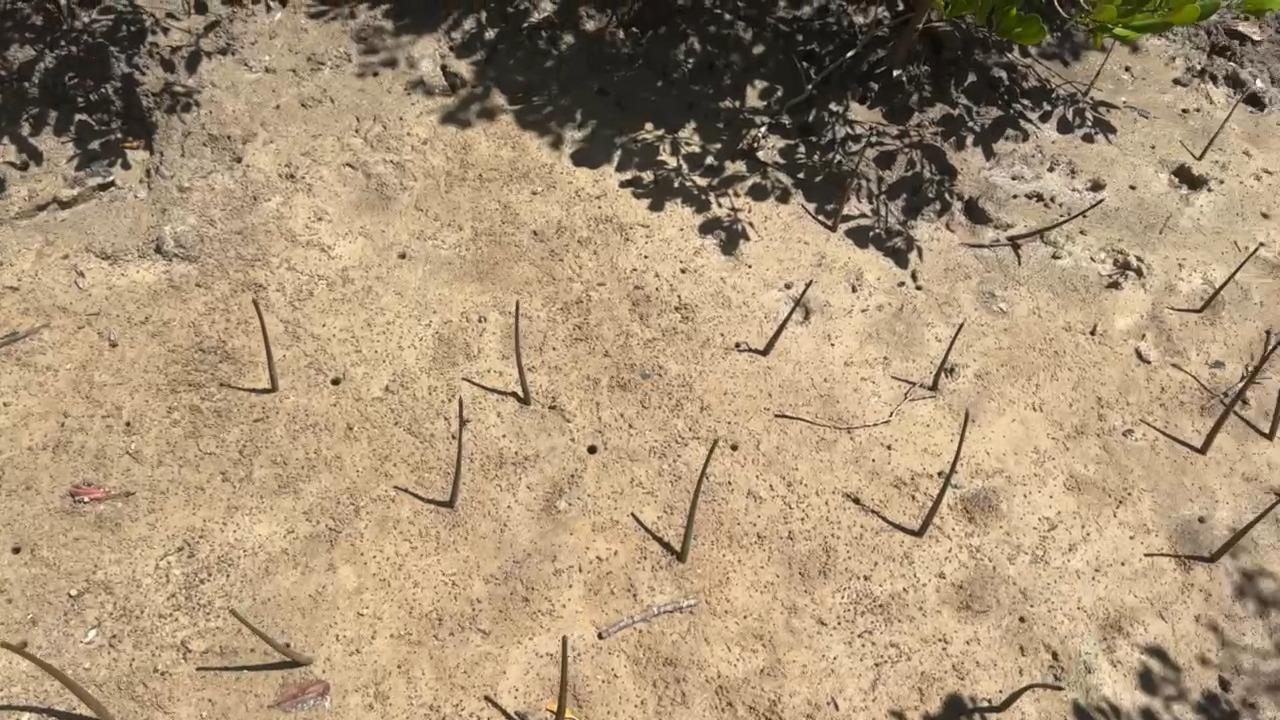Tree: (1198, 339, 1280, 456), (0, 640, 117, 720), (913, 408, 971, 538), (678, 437, 720, 564), (228, 607, 316, 666), (1210, 497, 1280, 564), (1197, 245, 1261, 314), (1006, 198, 1107, 241), (831, 130, 873, 233), (760, 279, 814, 356), (1197, 86, 1250, 162), (250, 296, 281, 393), (930, 319, 965, 391), (1081, 38, 1117, 98), (514, 298, 533, 406), (447, 396, 464, 510), (552, 634, 569, 720), (1267, 383, 1280, 442), (1021, 682, 1066, 692)
